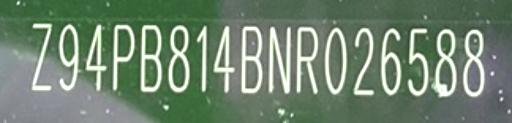letter: (23, 16, 59, 95), (348, 23, 382, 100), (80, 20, 112, 97), (432, 28, 464, 105), (106, 20, 138, 95), (266, 20, 296, 99), (235, 20, 265, 99), (164, 22, 196, 95), (319, 23, 349, 98), (136, 20, 164, 99), (295, 21, 323, 100), (459, 27, 489, 98), (55, 22, 83, 97), (404, 25, 432, 100), (212, 25, 238, 102), (379, 25, 405, 102), (190, 23, 216, 98)
